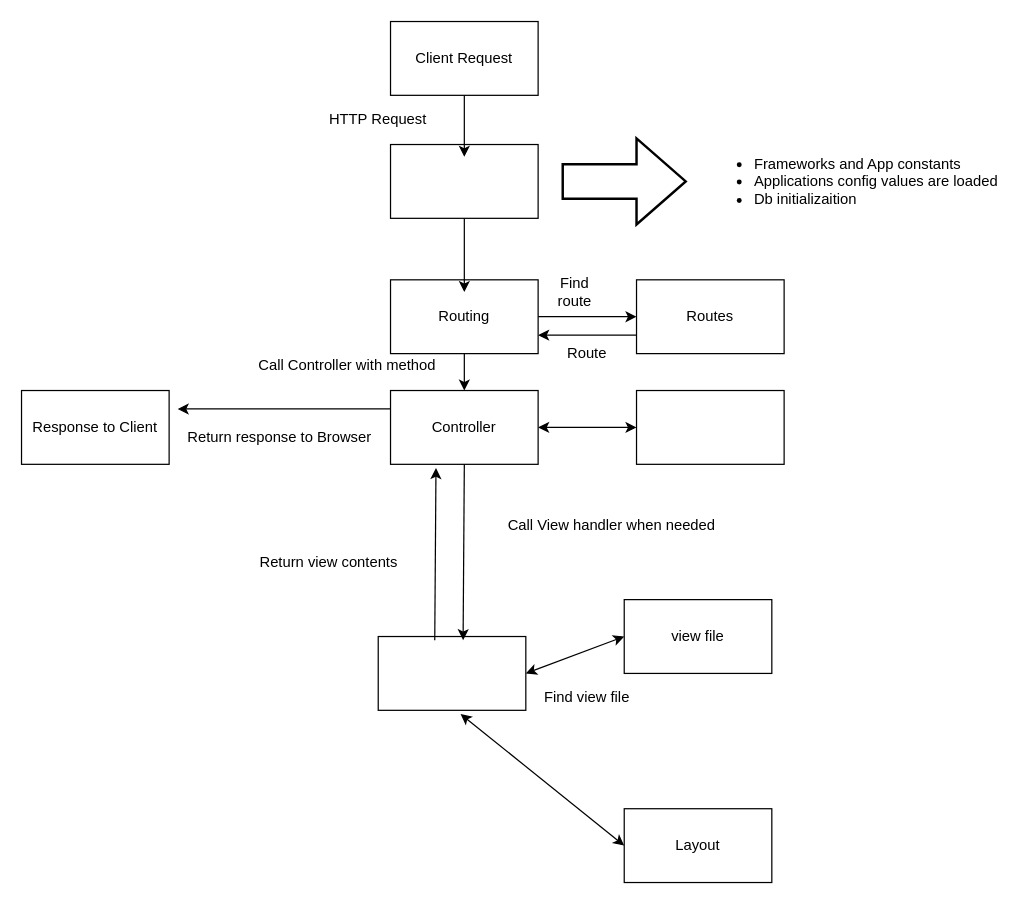
Some shapes in this 1027 by 904 pixel diagram are drawn without their labels. Each missing label, with the centre of its shape:
Framework Init: pixel 463 180
Model: pixel 709 426
View: pixel 451 672
